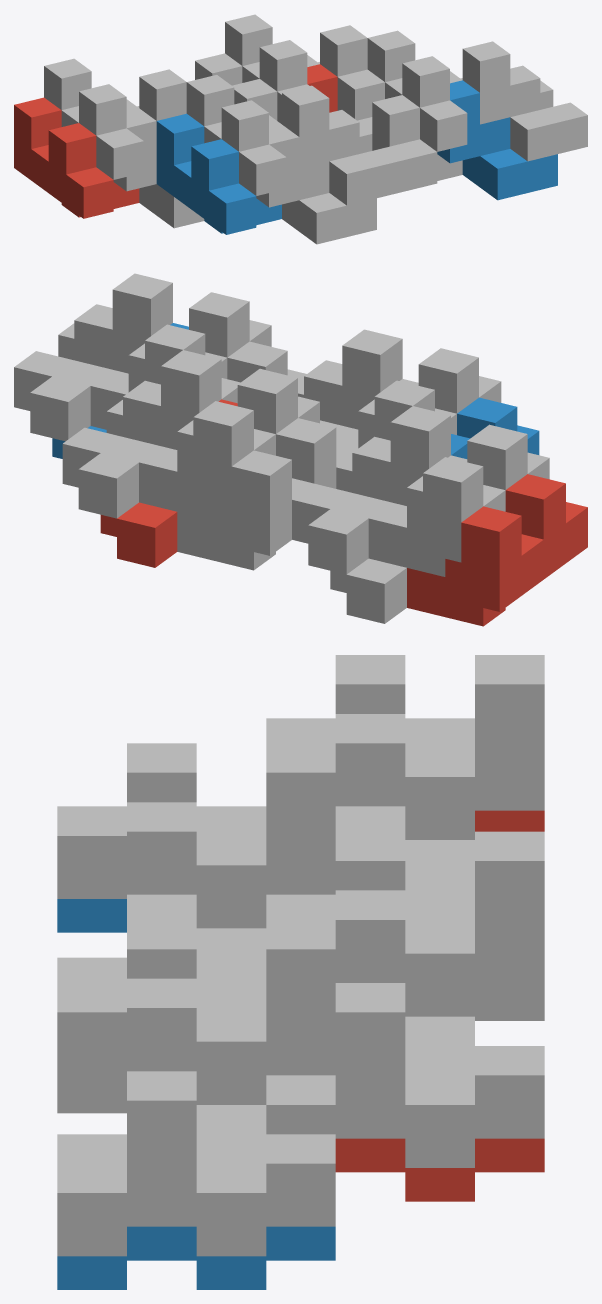
Rendered from tiling.obj.
3 views of the same model, one above another, from view 1: azimuth 30°, elevation 25°; view 2: azimuth 150°, elevation 25°; view 3: azimuth 270°, elevation 25° (orthographic). The views are drawn at different scales.
Visible parts, largest first — view 1: copy_1_domain_2, copy_1_domain_1, copy_2_domain_8, copy_2_domain_4, copy_1_domain_4, copy_1_domain_8, copy_1_domain_3, copy_2_domain_2, copy_1_domain_6, copy_2_domain_6, copy_1_domain_7, copy_2_domain_1 (+4 smaller); view 2: copy_1_domain_1, copy_1_domain_3, copy_1_domain_7, copy_2_domain_7, copy_2_domain_3, copy_1_domain_5, copy_2_domain_8, copy_1_domain_8, copy_1_domain_4, copy_2_domain_4, copy_2_domain_5, copy_2_domain_1 (+2 smaller); view 3: copy_2_domain_8, copy_2_domain_7, copy_1_domain_8, copy_1_domain_4, copy_1_domain_7, copy_1_domain_3, copy_2_domain_4, copy_2_domain_3, copy_2_domain_6, copy_2_domain_5, copy_1_domain_2, copy_1_domain_5 (+2 smaller).
Part boxes in pixels (x1=…): copy_1_domain_2: x1=156, y1=113, x2=281, y2=234; copy_1_domain_1: x1=14, y1=97, x2=139, y2=218; copy_2_domain_8: x1=460, y1=41, x2=587, y2=161; copy_2_domain_4: x1=282, y1=85, x2=406, y2=205; copy_1_domain_4: x1=186, y1=75, x2=286, y2=195; copy_1_domain_8: x1=367, y1=30, x2=467, y2=151; copy_1_domain_3: x1=44, y1=58, x2=143, y2=179; copy_2_domain_2: x1=256, y1=124, x2=376, y2=244; copy_1_domain_6: x1=337, y1=69, x2=462, y2=190; copy_2_domain_6: x1=437, y1=80, x2=557, y2=200; copy_1_domain_7: x1=225, y1=14, x2=319, y2=123; copy_2_domain_1: x1=113, y1=108, x2=204, y2=228; copy_1_domain_1: x1=407, y1=474, x2=587, y2=626; copy_1_domain_3: x1=368, y1=424, x2=549, y2=576; copy_1_domain_7: x1=139, y1=368, x2=319, y2=520; copy_2_domain_7: x1=62, y1=350, x2=221, y2=518; copy_2_domain_3: x1=292, y1=406, x2=450, y2=574; copy_1_domain_5: x1=177, y1=418, x2=355, y2=570; copy_2_domain_8: x1=14, y1=273, x2=172, y2=441; copy_1_domain_8: x1=90, y1=292, x2=271, y2=429; copy_1_domain_4: x1=336, y1=348, x2=501, y2=450; copy_2_domain_4: x1=298, y1=329, x2=402, y2=429; copy_2_domain_5: x1=100, y1=399, x2=237, y2=567; copy_2_domain_1: x1=330, y1=455, x2=467, y2=623; copy_2_domain_8: x1=57, y1=978, x2=335, y2=1256; copy_2_domain_7: x1=266, y1=890, x2=544, y2=1167; copy_1_domain_8: x1=57, y1=920, x2=335, y2=1134; copy_1_domain_4: x1=57, y1=743, x2=335, y2=957; copy_1_domain_7: x1=266, y1=831, x2=544, y2=1045; copy_1_domain_3: x1=266, y1=655, x2=544, y2=869; copy_2_domain_4: x1=57, y1=802, x2=266, y2=982; copy_2_domain_3: x1=335, y1=714, x2=474, y2=894; copy_2_domain_6: x1=57, y1=1226, x2=335, y2=1289; copy_2_domain_5: x1=335, y1=1138, x2=544, y2=1201; copy_1_domain_2: x1=57, y1=899, x2=126, y2=932; copy_1_domain_5: x1=475, y1=987, x2=544, y2=1020.
Size of the model in its own units: 15 by 4 by 7.
